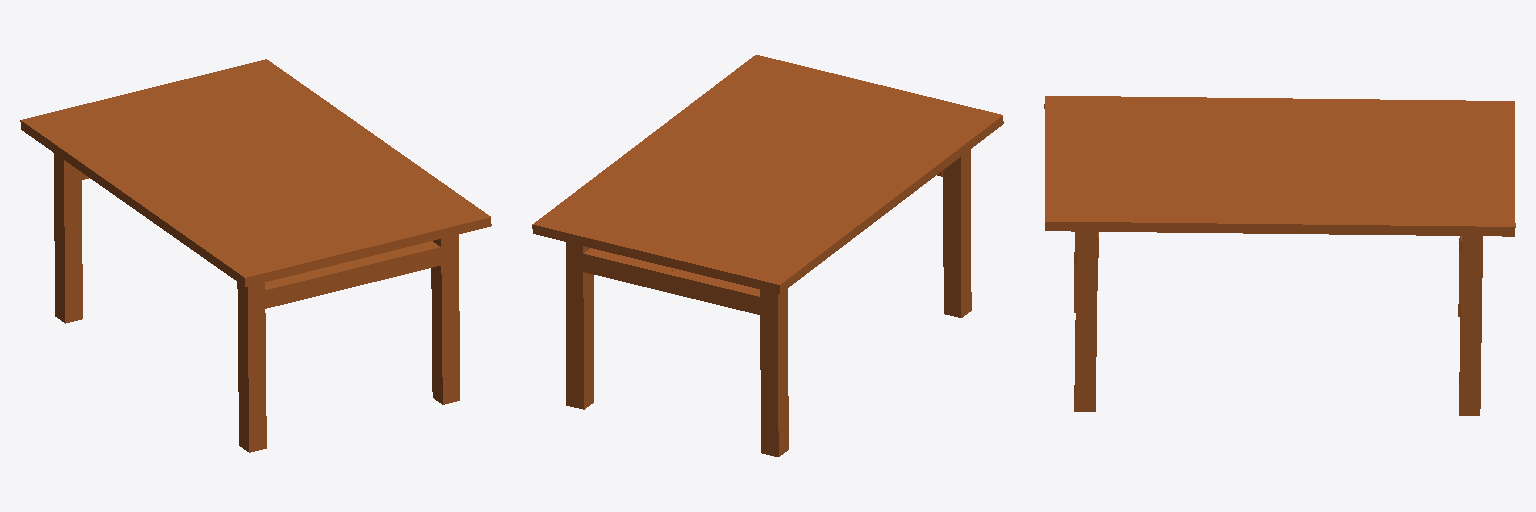
URDF robot description (table):
<?xml version="0.0" ?>
<robot name="table">
  <link name="tableLink">
  <contact>
      <lateral_friction value="1"/>
  </contact>
    <inertial>
      <origin rpy="0 0 0" xyz="0 0 0"/>
       <mass value=".0"/>
       <inertia ixx="0" ixy="0" ixz="0" iyy="0" iyz="0" izz="0"/>
    </inertial>
    <visual>
      <origin rpy="0 0 0" xyz="0 0 0"/>
      <geometry>
	<mesh filename="table.obj" scale="1 1 1"/>
      </geometry>
       <material name="black">
        <color rgba="0.7 0.4 0.2 1"/>
      </material>
    </visual>
    <collision>
      <origin rpy="0 0 0" xyz="0 0 0"/>
      <geometry>
	 <mesh filename="table.obj" scale="1 1 1"/>
      </geometry>
    </collision>
  </link>
</robot>

--- What the picture shows (computed from the rendered views, not written in the file) ---
The picture shows the robot from 3 angles, left to right: view 1: azimuth 30°, elevation 25°; view 2: azimuth 150°, elevation 25°; view 3: azimuth 270°, elevation 25°; orthographic projection.
Model table with 1 links and 0 joints (none), rooted at tableLink, posed all joints at 0.
Visible links, largest first — view 1: tableLink; view 2: tableLink; view 3: tableLink.
Boxes of the visible links, x1,y1,x2,y2 form: tableLink: (20, 59, 491, 452); tableLink: (532, 55, 1003, 456); tableLink: (1044, 96, 1515, 415).
Bounding box of the posed robot: 0.0799 × 0.1253 × 0.0601 m (x, y, z).
Meshes: 1 distinct files referenced, 1 mesh visuals loaded (1 OBJ).